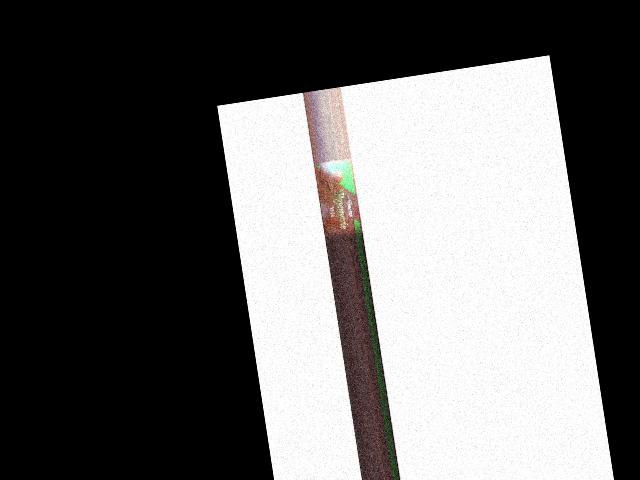chocolate: (314, 159, 361, 241)
